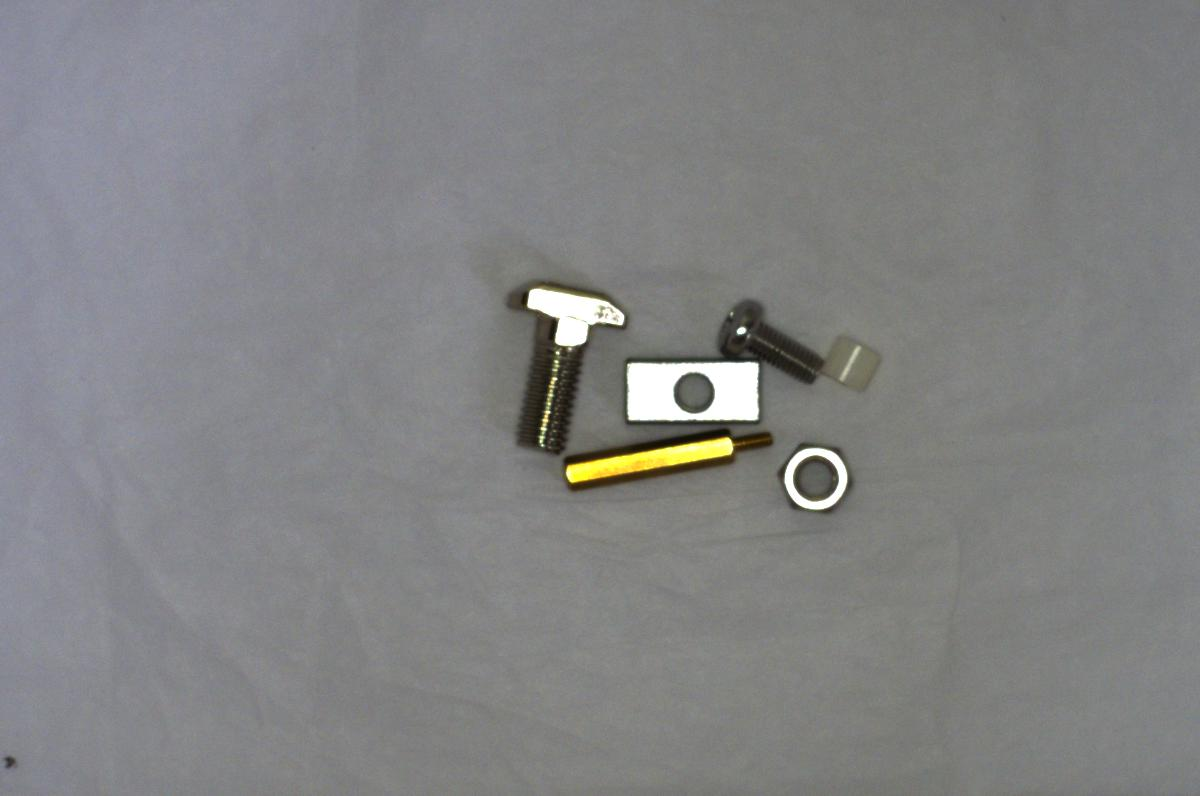Hexagon nut: (768, 436, 861, 520)
Hexagon pillar: (558, 426, 774, 489)
Plastic cushion pillar: (820, 330, 885, 401)
Rectangular nut: (620, 349, 767, 430)
Round head screw: (712, 300, 830, 386)
T-shaped screw: (494, 281, 627, 460)
